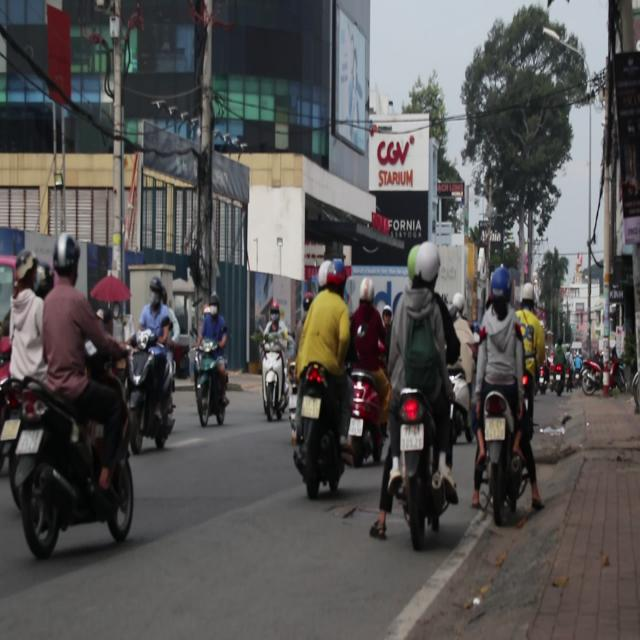motorbike: (0, 367, 136, 558), (374, 378, 454, 549), (472, 397, 534, 523), (292, 364, 346, 498), (124, 329, 178, 452), (189, 334, 235, 438), (346, 371, 387, 468), (259, 327, 296, 422)
